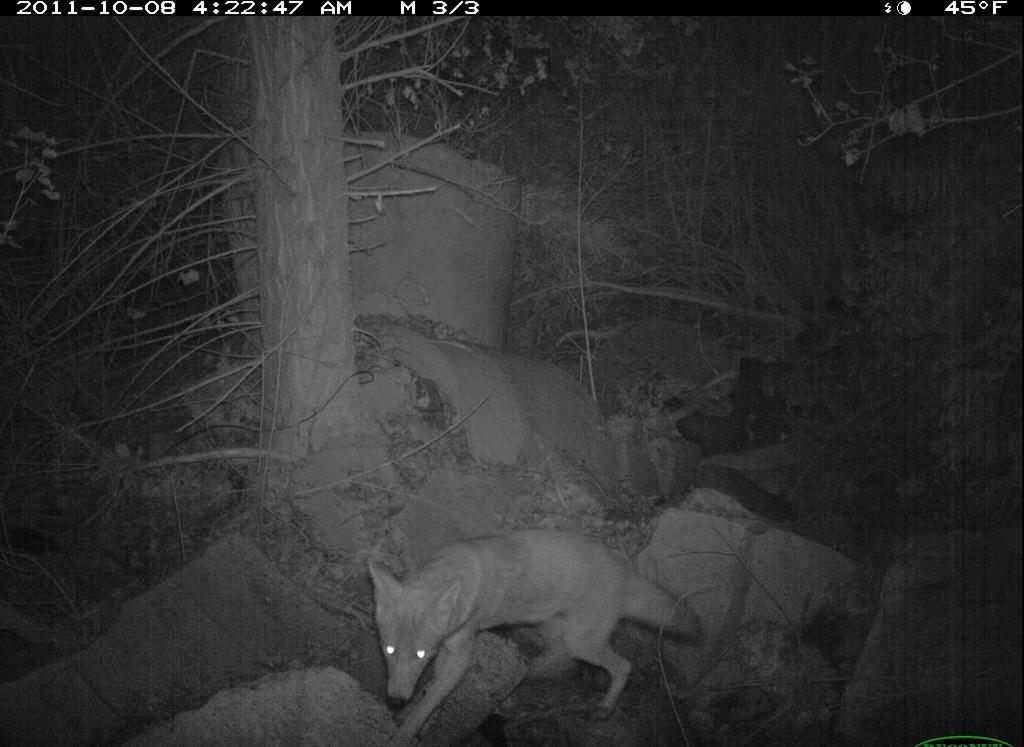coyote: (360, 525, 711, 747)
